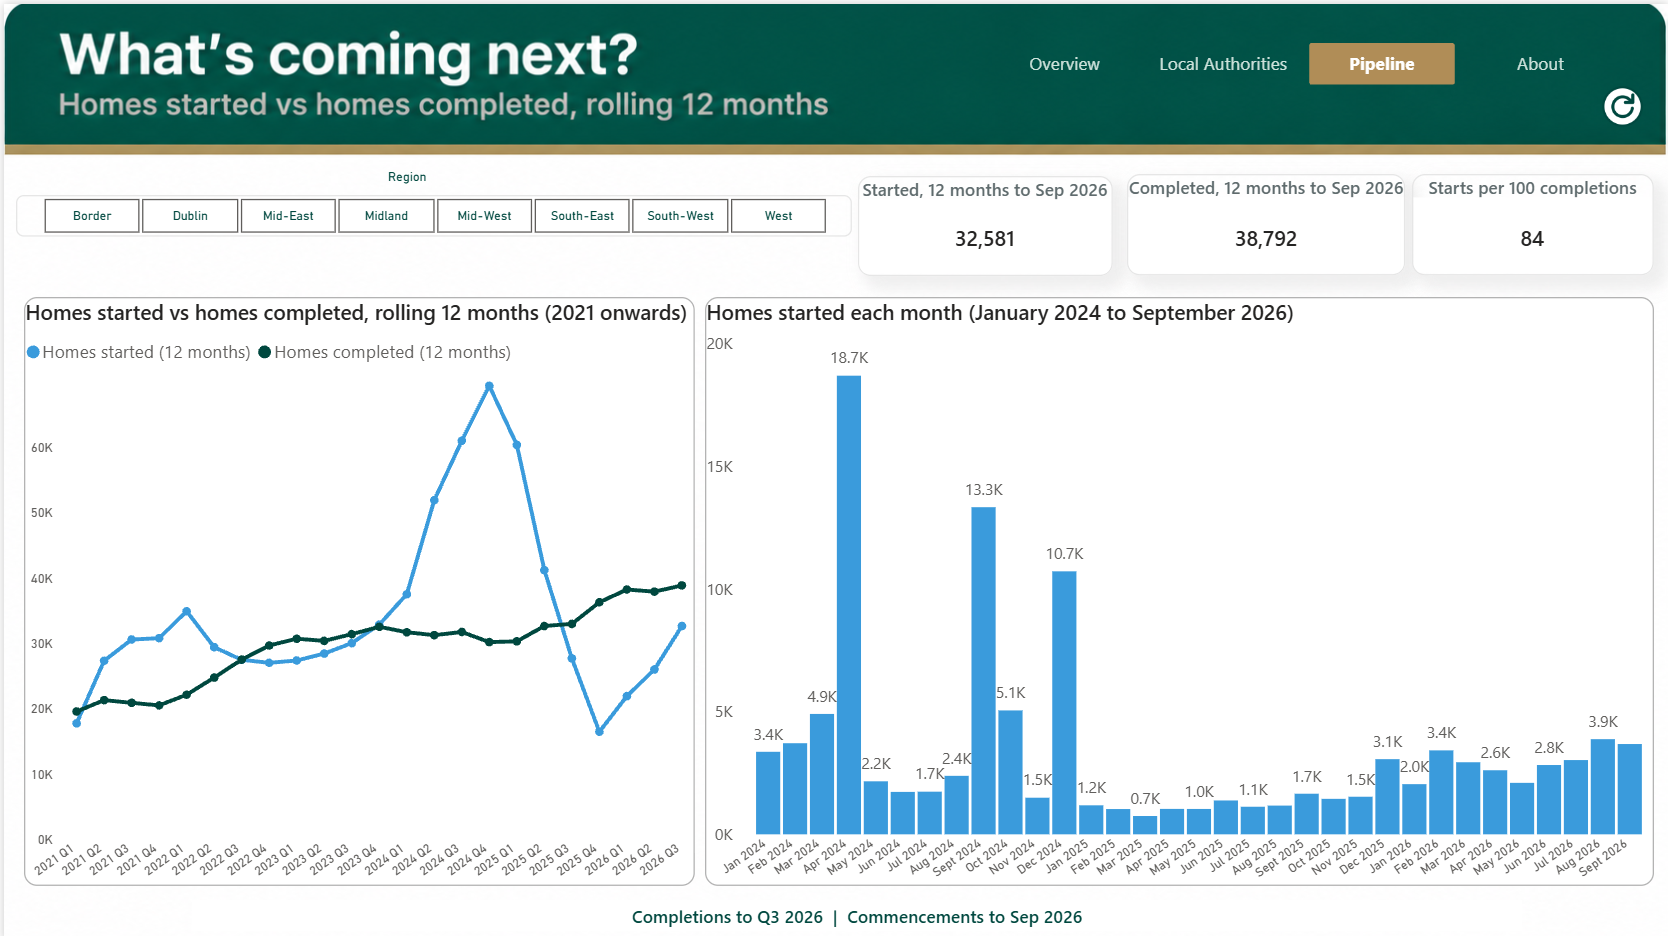

The page's visual inventory and layout, read from the dashboard file:
{"tool":"powerbi","page":{"name":"Pipeline","canvas":[1280,720],"ordinal":2},"visuals":[{"type":"card","fields":{"Values":["_Measures.Data Note"]},"box":[144.4,688.9,1023.3,24.4],"z":0},{"type":"textbox","box":[271.1,116.7,78.9,30],"z":1000},{"type":"cardVisual","title":"Started, 12 months to Sep 2026","fields":{"Data":["_Measures.Commenced Last 12 Months"]},"box":[656.7,132.2,195.6,76.7],"z":2000},{"type":"cardVisual","title":"Completed, 12 months to Sep 2026","fields":{"Data":["_Measures.Current Run Rate"]},"box":[863.5,130.8,214.4,77.9],"z":3000},{"type":"cardVisual","title":"Starts per 100 completions","fields":{"Data":["_Measures.Starts per 100 Completions"]},"box":[1083.3,131.1,185.6,77.8],"z":4000},{"type":"slicer","fields":{"Values":["Local Authority.Region"]},"box":[8.9,146.7,643.3,32.2],"z":5000},{"type":"lineChart","title":"Homes started vs homes completed, rolling 12 months (2021 onwards)","fields":{"Category":["Date.Quarter"],"Y":["_Measures.Started (rolling 12m)","_Measures.Completed (rolling 12m)"]},"box":[15.6,225.6,515.6,453.3],"z":6000},{"type":"clusteredColumnChart","title":"Homes started each month (January 2024 to September 2026)","fields":{"Category":["Date.Year Month"],"Y":["_Measures.Homes Commenced"]},"box":[538.9,225.6,730,453.3],"z":7000},{"type":"image","box":[1221.5,62.5,47.4,33.3],"z":8000},{"type":"pageNavigator","box":[760,30,480,32],"z":9000}]}

Visuals, with their boxes in screenshot pixels (x1, y1, x2, y2), scaled from the page's 1280x720 canvas onto the 1668x936 screenshot:
card - _Measures.Data Note: (left=188, top=896, right=1522, bottom=927)
textbox: (left=353, top=152, right=456, bottom=191)
"Started, 12 months to Sep 2026" cardVisual: (left=856, top=172, right=1111, bottom=272)
"Completed, 12 months to Sep 2026" cardVisual: (left=1125, top=170, right=1405, bottom=271)
"Starts per 100 completions" cardVisual: (left=1412, top=170, right=1654, bottom=272)
slicer - Local Authority.Region: (left=12, top=191, right=850, bottom=233)
"Homes started vs homes completed, rolling 12 months (2021 onwards)" lineChart: (left=20, top=293, right=692, bottom=883)
"Homes started each month (January 2024 to September 2026)" clusteredColumnChart: (left=702, top=293, right=1654, bottom=883)
image: (left=1592, top=81, right=1654, bottom=125)
pageNavigator: (left=990, top=39, right=1616, bottom=81)
